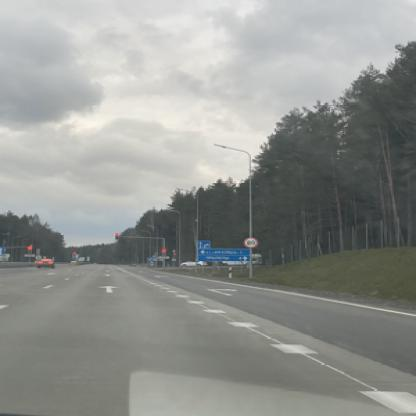speedlimit: (243, 237, 255, 247)
